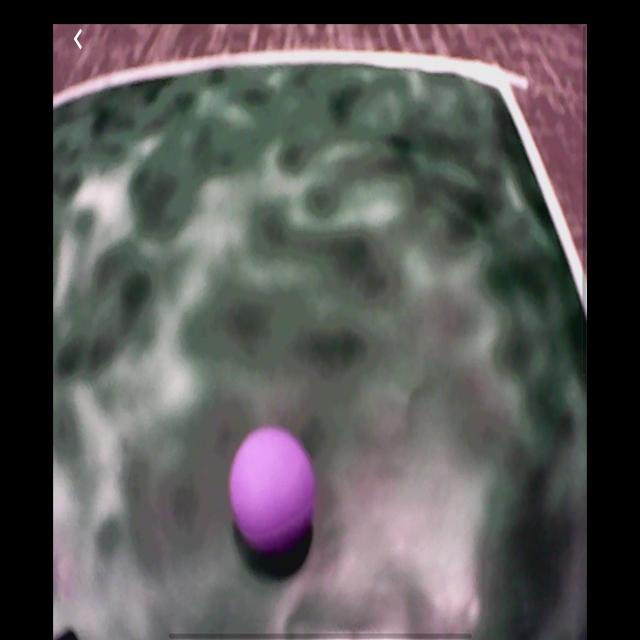ball: (229, 425, 318, 558)
